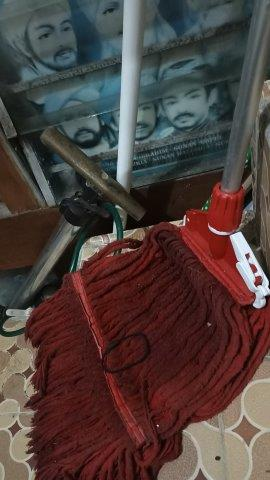karet: (101, 333, 151, 373)
